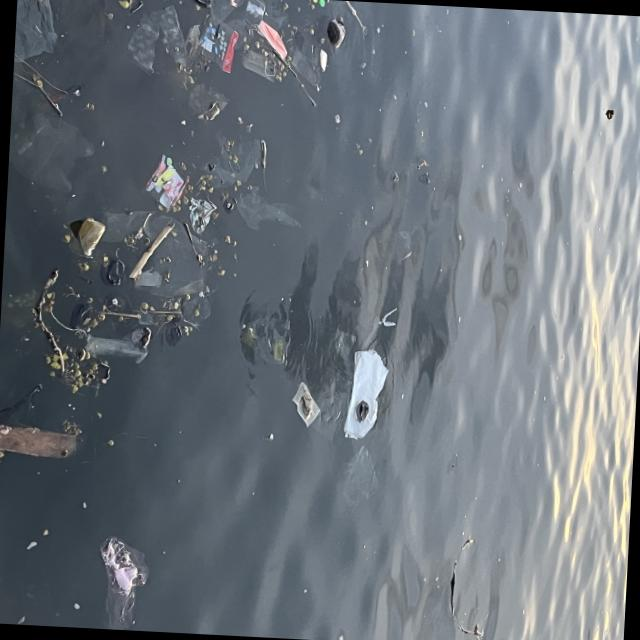foam: (320, 51, 329, 72)
plastic bag: (100, 535, 151, 628), (353, 346, 388, 445)
